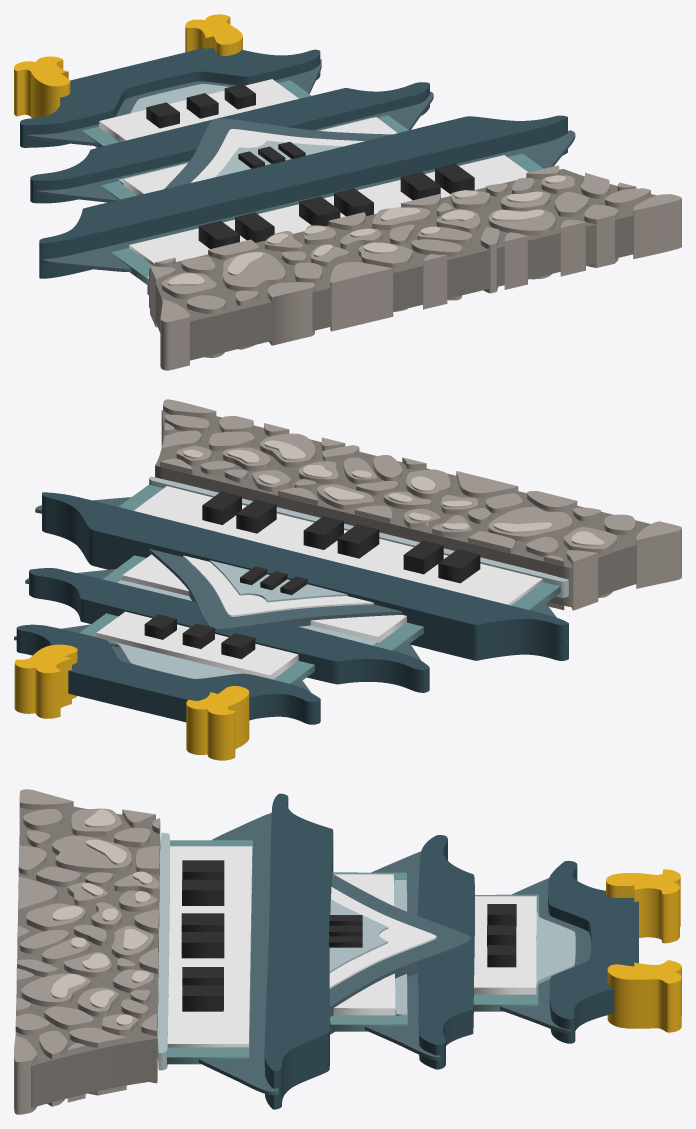
File: emoji_u1f3ef.glb
The picture shows the model from 3 angles, top to bottom: view 1: azimuth 30°, elevation 25°; view 2: azimuth 150°, elevation 25°; view 3: azimuth 270°, elevation 25°; orthographic projection. The views are drawn at different scales.
Parts seen in each view (by area): view 1: emoji_u1f3ef; view 2: emoji_u1f3ef; view 3: emoji_u1f3ef.
Part boxes in pixels (bbox=[...]): emoji_u1f3ef: bbox=[14, 14, 681, 370]; emoji_u1f3ef: bbox=[14, 399, 681, 760]; emoji_u1f3ef: bbox=[14, 789, 681, 1114].
Size of the model in its own units: 0.0344 by 0.0032 by 0.0346.
